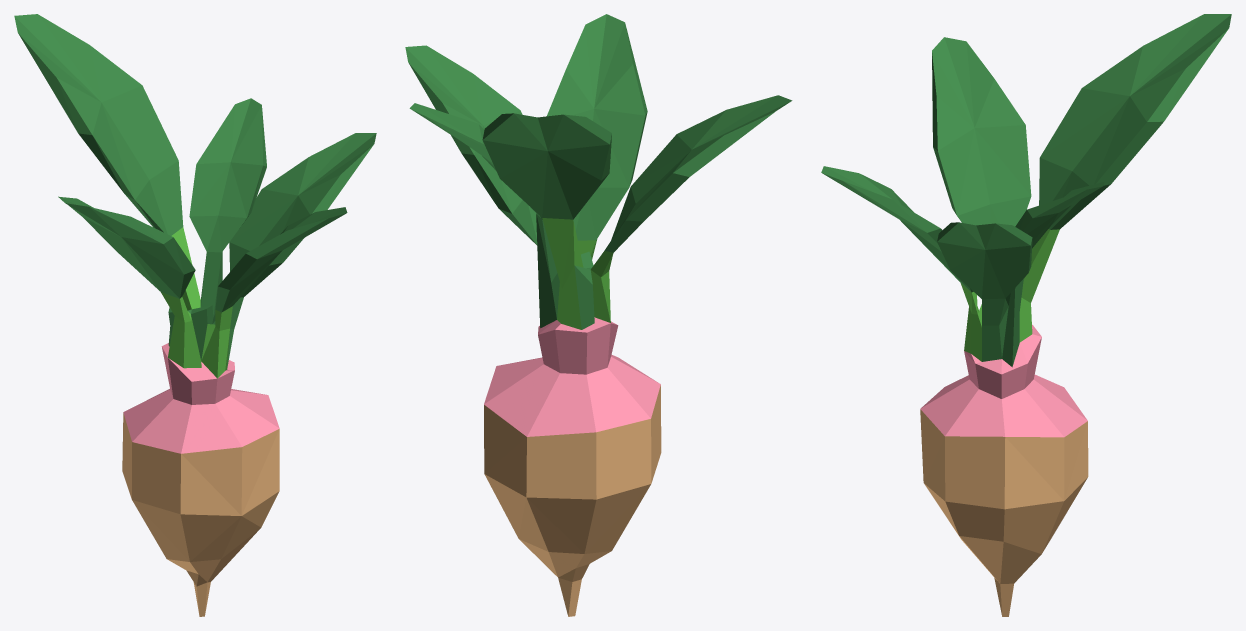
The model's file is Rutabaga_M.fbx.
The picture shows the model from 3 angles, left to right: view 1: azimuth 30°, elevation 25°; view 2: azimuth 150°, elevation 25°; view 3: azimuth 270°, elevation 25°; orthographic projection. The views are drawn at different scales.
Parts seen in each view (by area): view 1: Rutabaga_M; view 2: Rutabaga_M; view 3: Rutabaga_M.
Boxes of the visible parts, box(x1,y1,x2,y2) form: Rutabaga_M: box(14, 14, 376, 616); Rutabaga_M: box(405, 14, 792, 616); Rutabaga_M: box(821, 14, 1231, 616).
Bounding box in the file's own units: 28.42 × 44.8 × 29.66.
